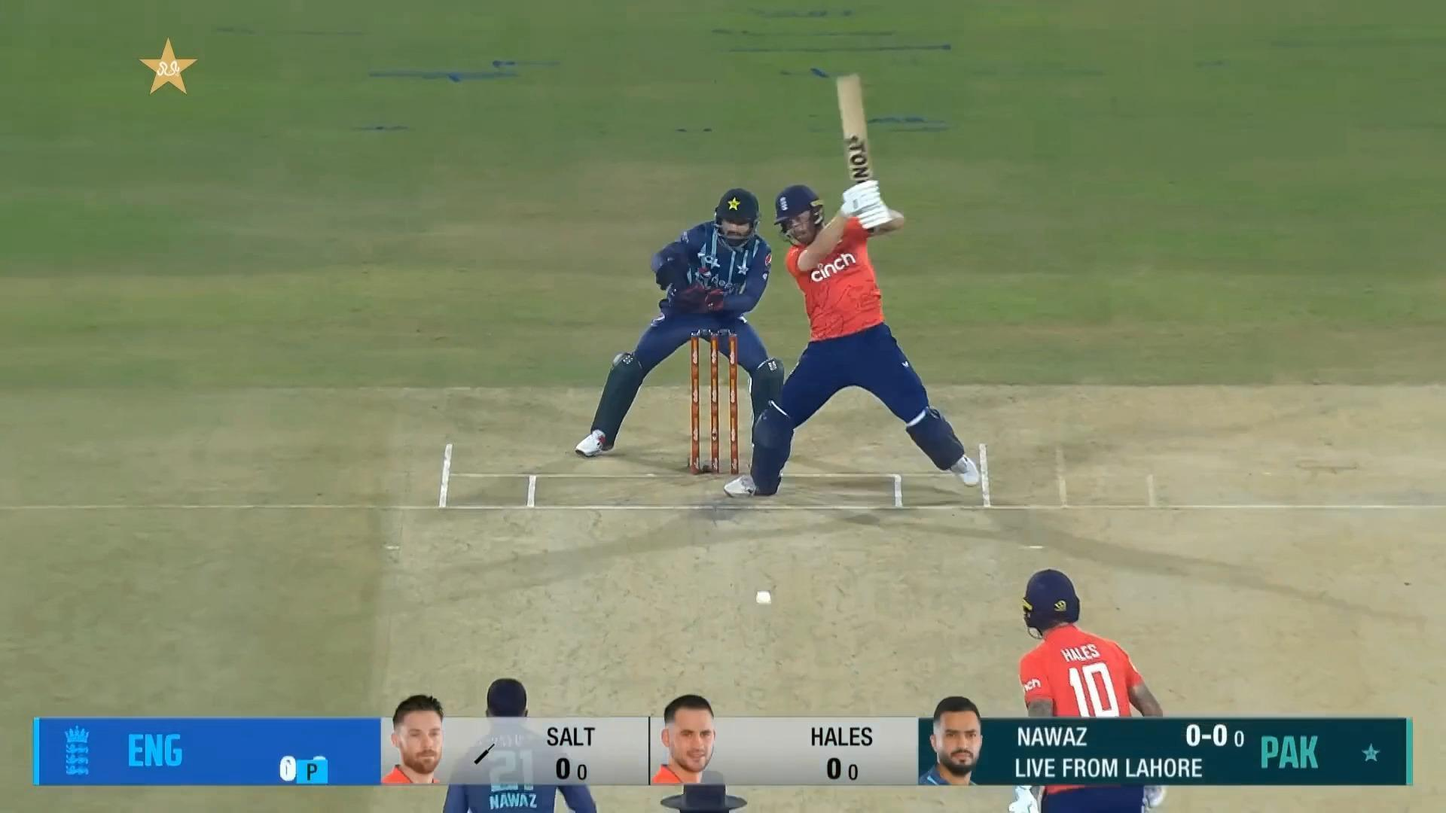BM 1: (724, 73, 980, 498)
BO: (441, 674, 601, 813)
